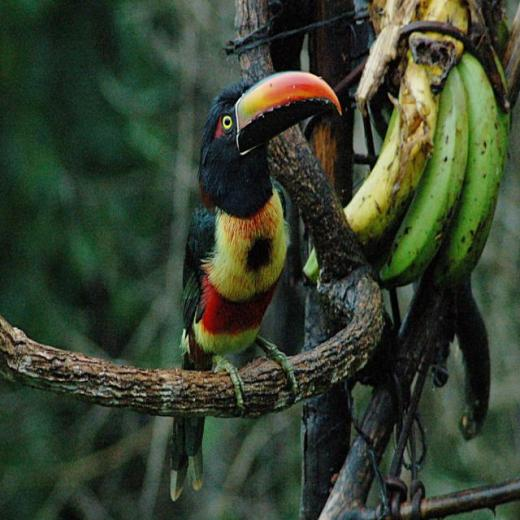Banana: (299, 55, 439, 286), (374, 63, 470, 285), (432, 53, 509, 286)
